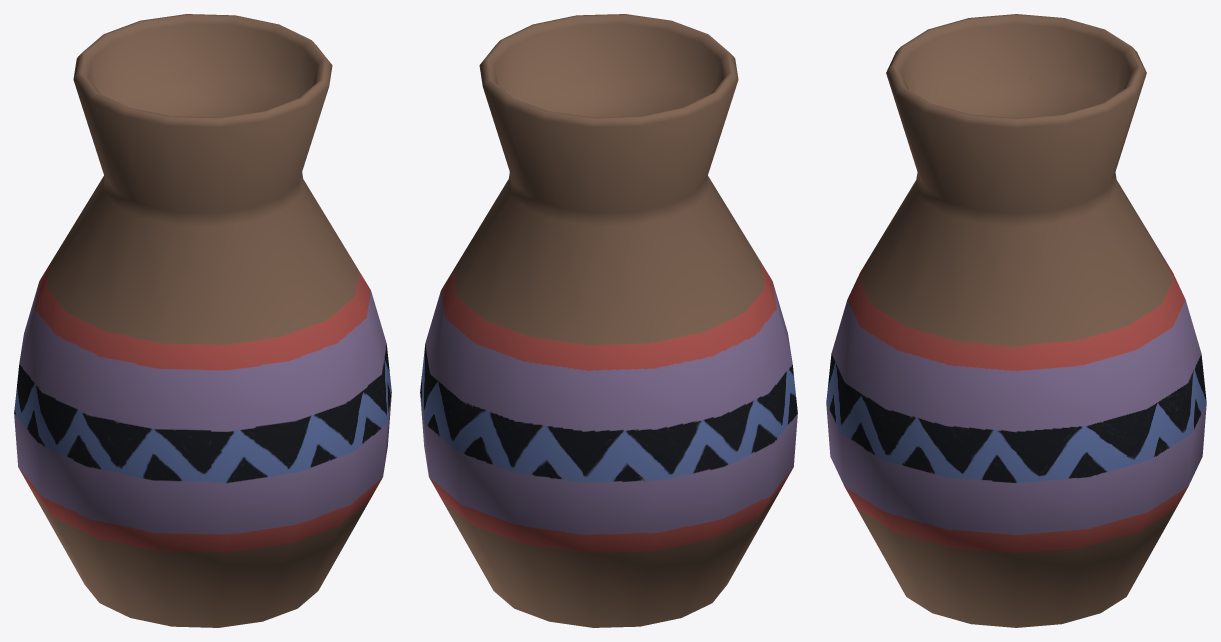
File: Pot.fbx
3 renders of one model, left to right at view 1: azimuth 30°, elevation 25°; view 2: azimuth 150°, elevation 25°; view 3: azimuth 270°, elevation 25°, orthographic.
Parts seen in each view (by area): view 1: Pottery 1; view 2: Pottery 1; view 3: Pottery 1.
Boxes of the visible parts, <box> form: Pottery 1: <box>14,14,391,627</box>; Pottery 1: <box>420,14,797,627</box>; Pottery 1: <box>826,14,1206,627</box>.
Size of the model in its own units: 29.5 by 43.68 by 29.5.
